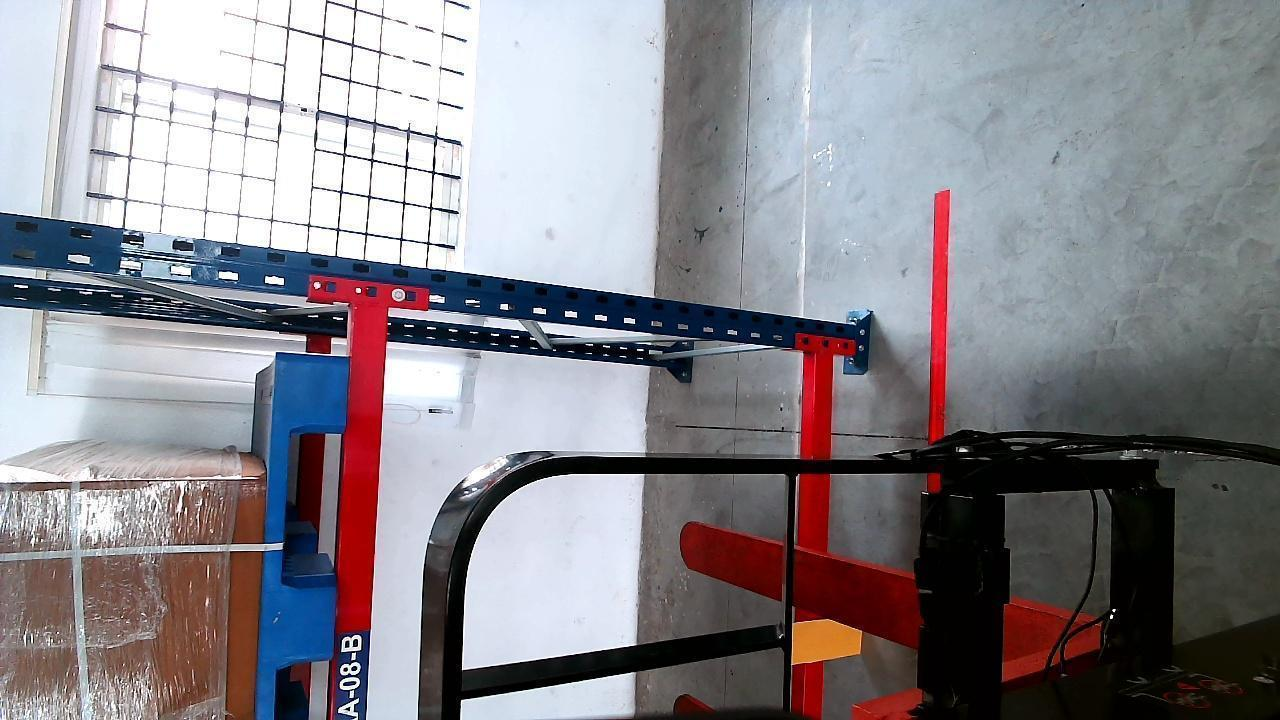red_line: (928, 182, 951, 440)
